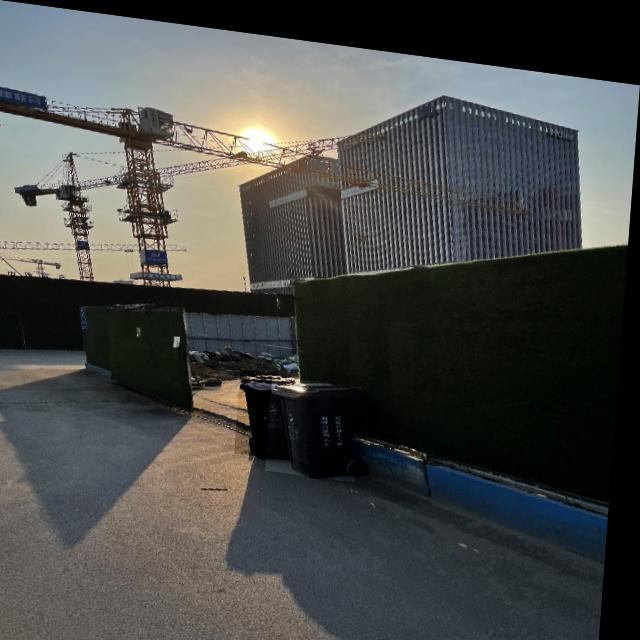garbage_bin: (272, 367, 366, 471)
overflow: (241, 362, 301, 452)
